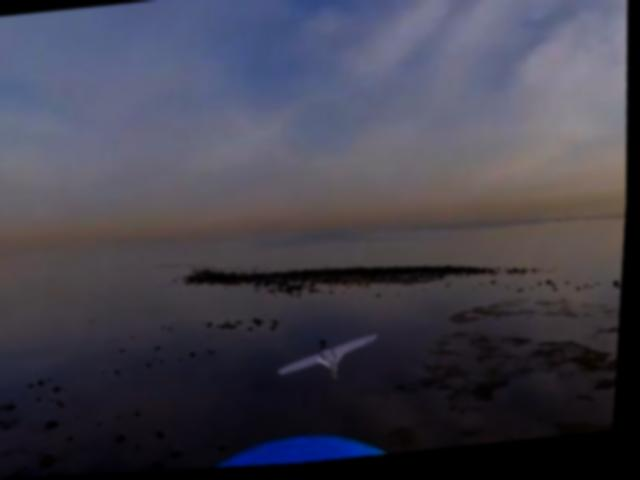uav: (277, 328, 385, 389)
